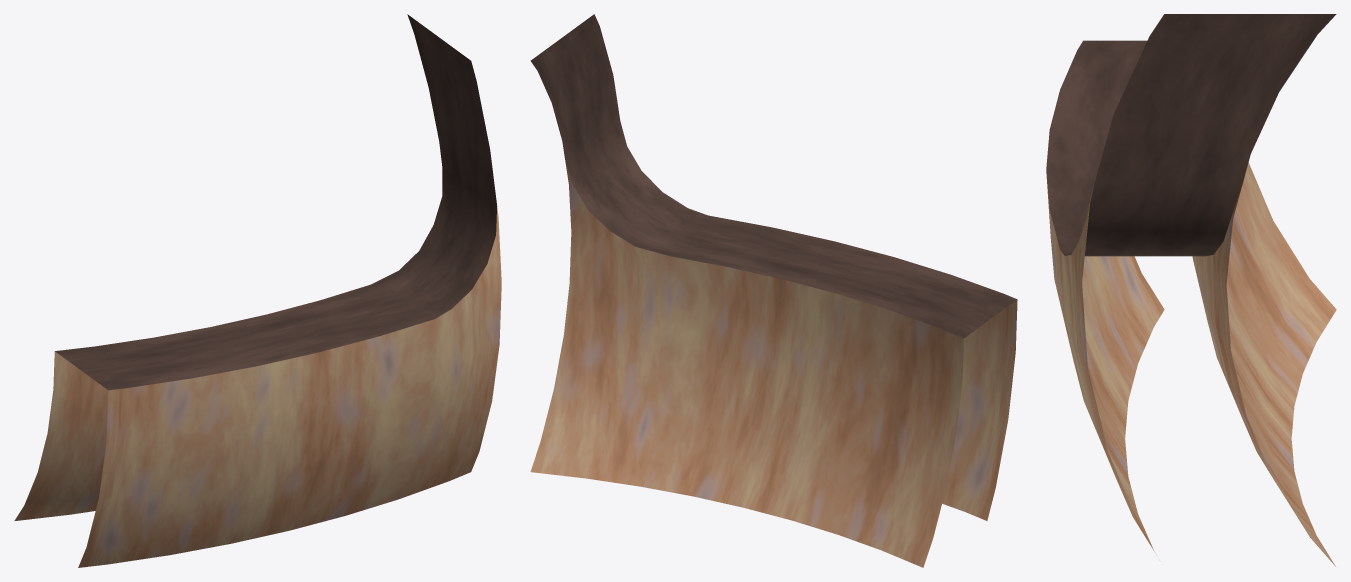
The model's file is FI_038_francos_building_wall_short_var.glb.
3 renders of one model, left to right at view 1: azimuth 30°, elevation 25°; view 2: azimuth 150°, elevation 25°; view 3: azimuth 270°, elevation 25°, orthographic. The views are drawn at different scales.
Parts seen in each view (by area): view 1: wall_short_curved; view 2: wall_short_curved; view 3: wall_short_curved.
Boxes of the visible parts, x1=… form: wall_short_curved: x1=14, y1=14, x2=501, y2=567; wall_short_curved: x1=530, y1=14, x2=1017, y2=567; wall_short_curved: x1=1046, y1=14, x2=1336, y2=566.
Bounding box in the file's own units: 3 × 3 × 1.43.
2 materials, 2 textured.
